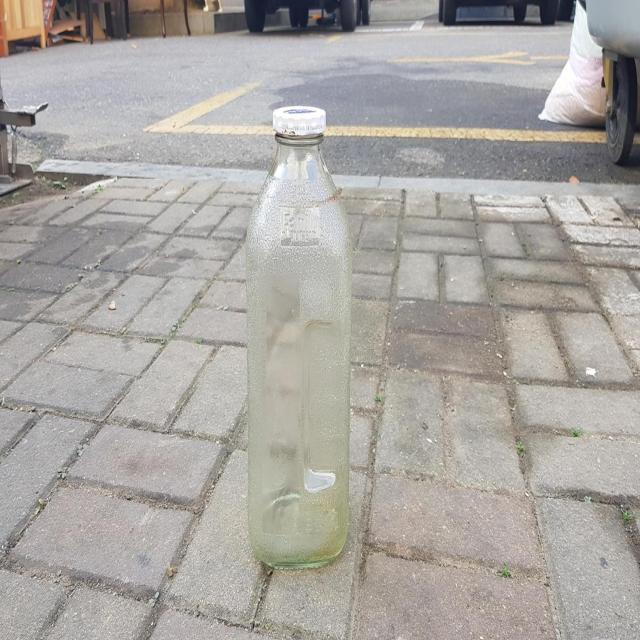glass: (246, 104, 352, 567)
